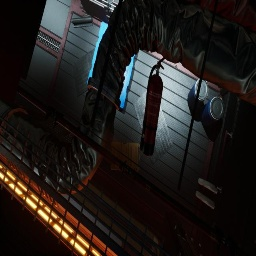FireExtinguisher ]: (140, 58, 166, 156)
